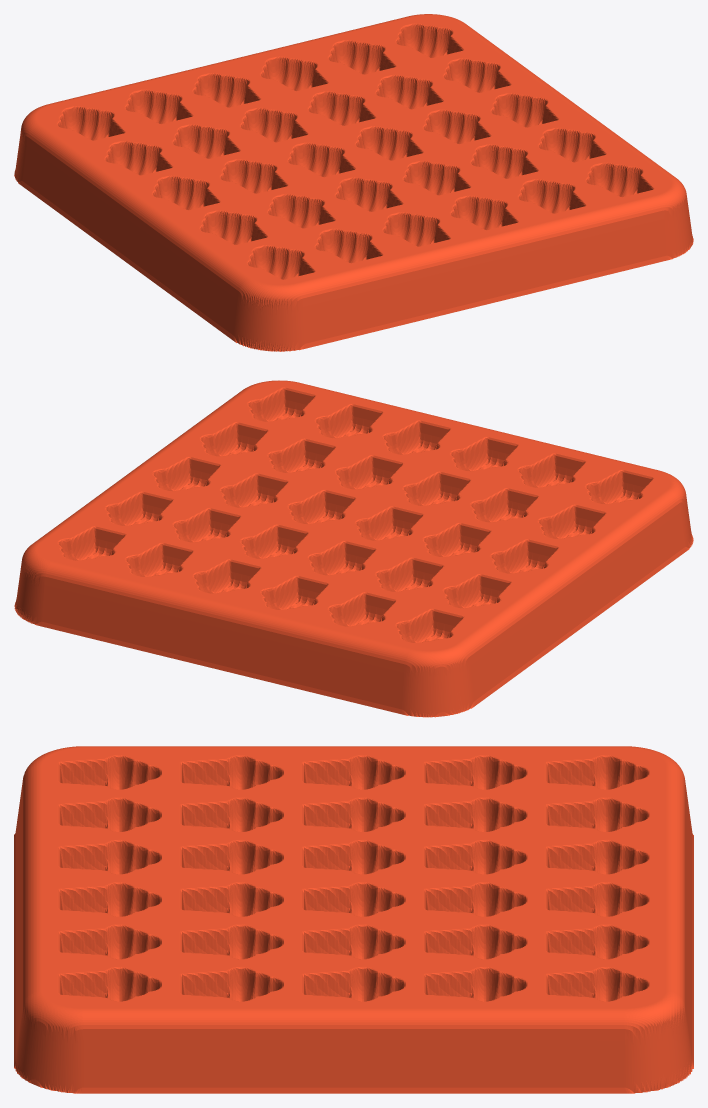
The model's file is mold.glb.
The picture shows the model from 3 angles, top to bottom: view 1: azimuth 30°, elevation 25°; view 2: azimuth 150°, elevation 25°; view 3: azimuth 270°, elevation 25°; orthographic projection. The views are drawn at different scales.
Visible parts, largest first — view 1: geometry_0; view 2: geometry_0; view 3: geometry_0.
Boxes of the visible parts, x1,y1,x2,y2 form: geometry_0: (14,14,693,351); geometry_0: (14,380,693,717); geometry_0: (14,746,693,1093).
Size of the model in its own units: 0.0872 by 0.0105 by 0.0882.
